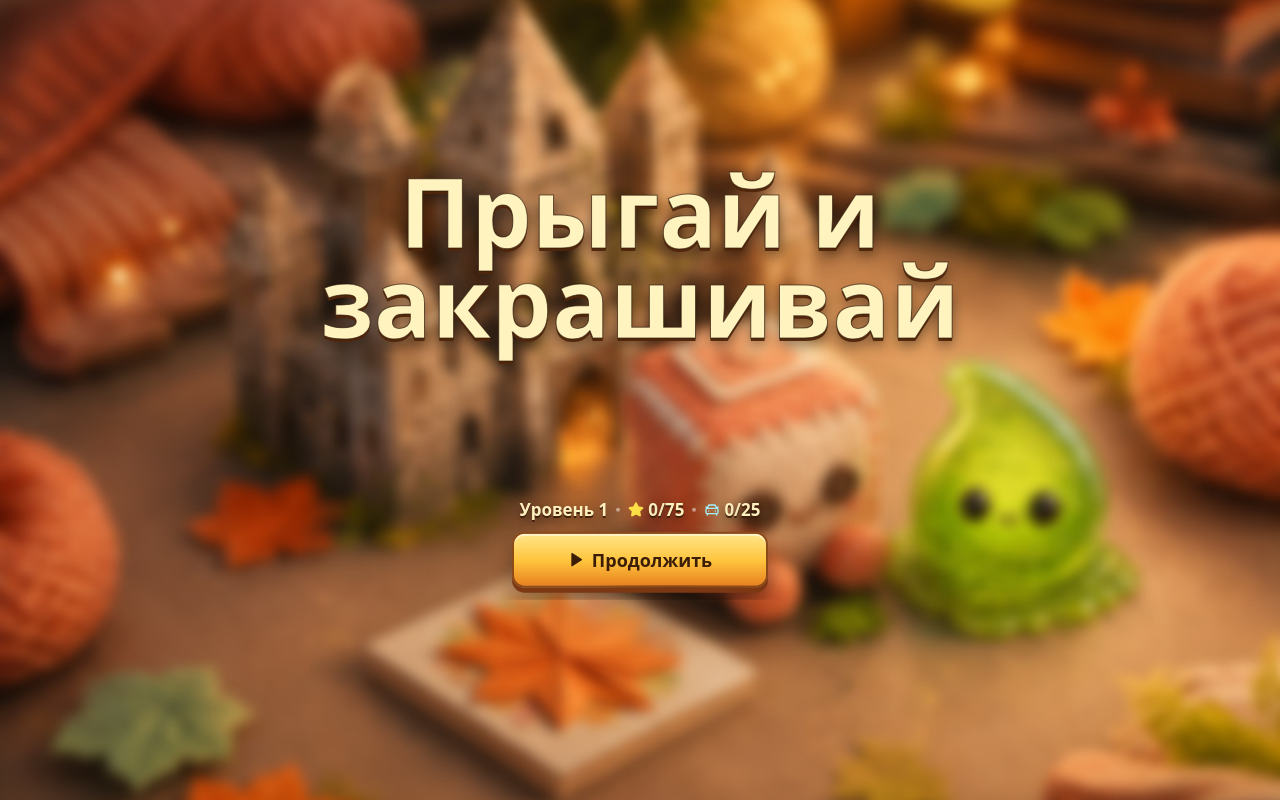
Scenario: GameCanvas yandex lifecycle › continues a lost attempt with ten additional moves after a rewarded view
Expected: the text "Уровень 1 / 25" is shown, [57, 103, 188, 121]
Click the button "Продолжить": coordinates (640, 559) [512, 531, 768, 587]
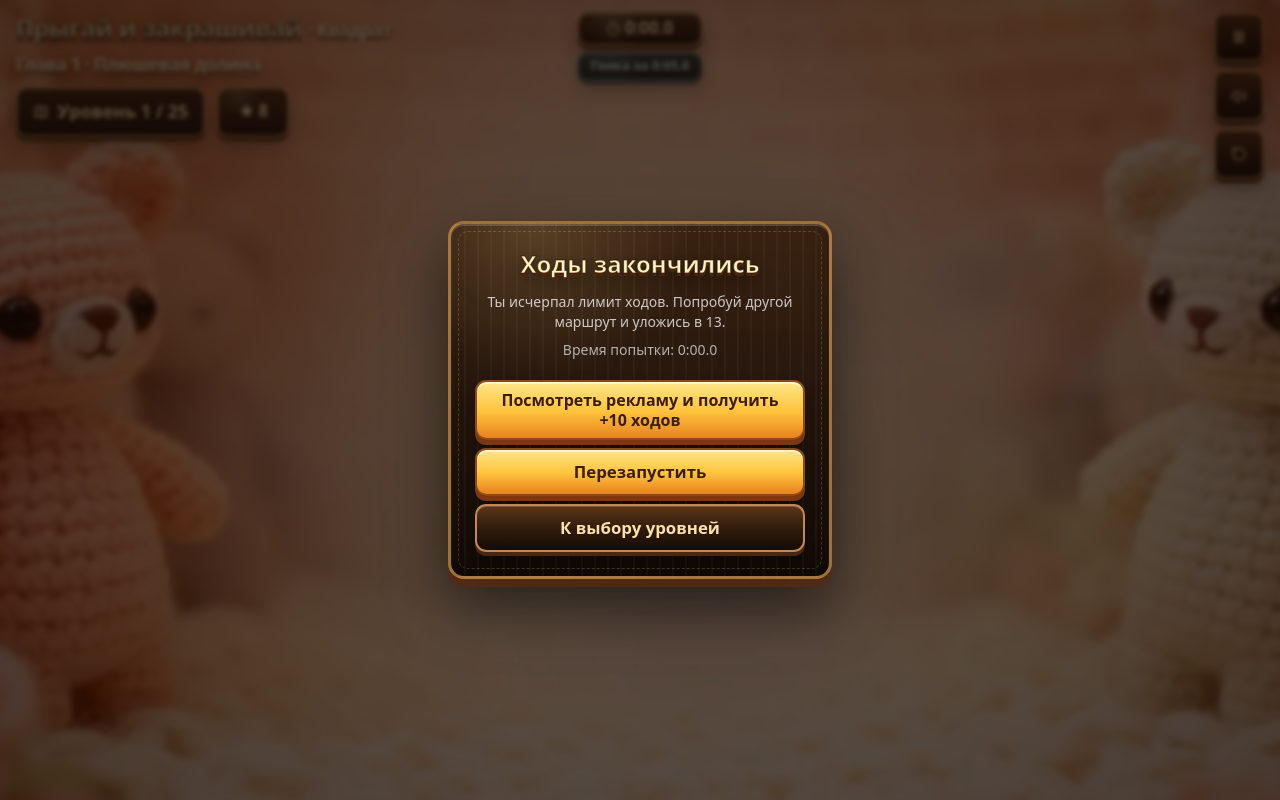
Expected: the element with test id "start-screen" is gone
Click the button "Посмотреть рекламу и получить +10 ходов": coordinates (640, 410) [475, 380, 805, 440]
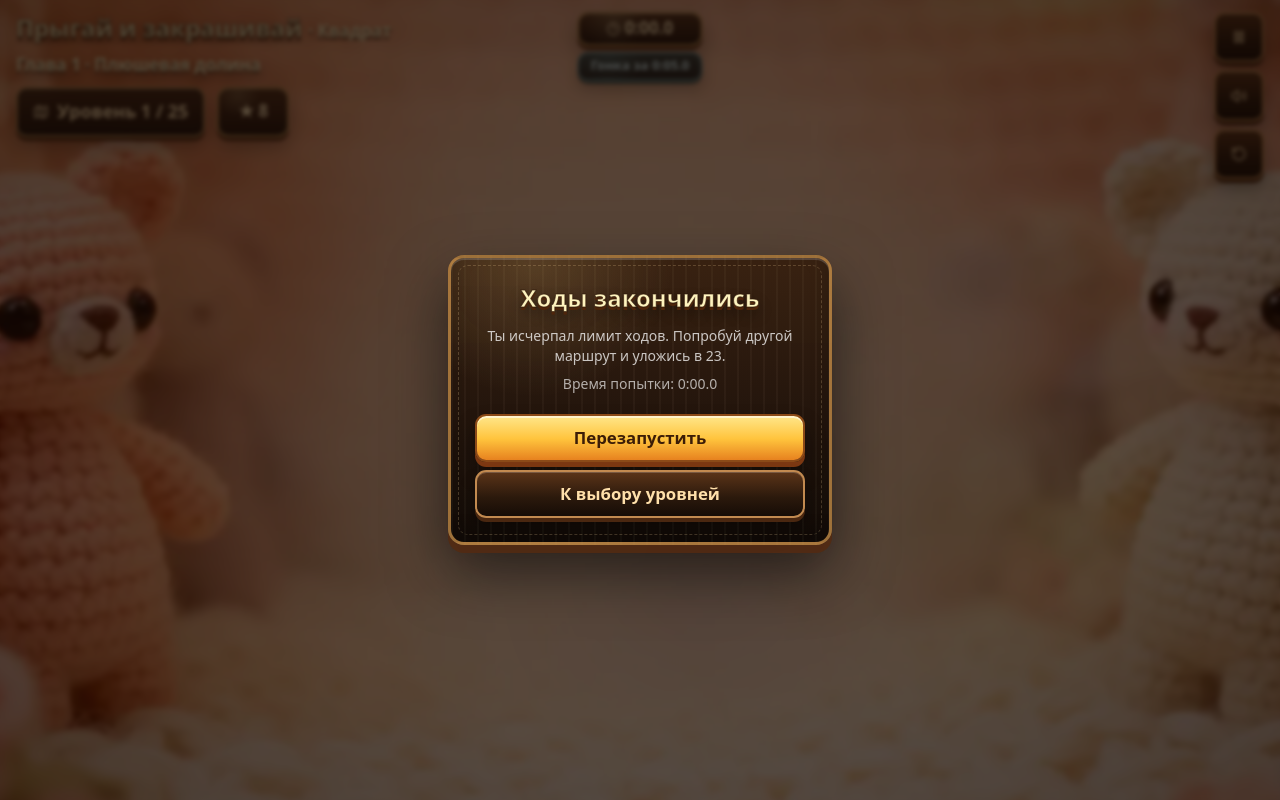
Expected: the button "10 ходов" is gone
